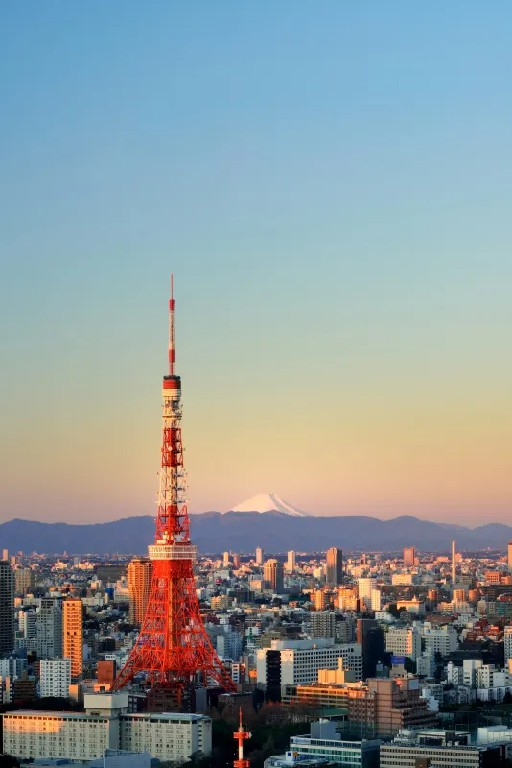Tokyo: (113, 265, 237, 694)
